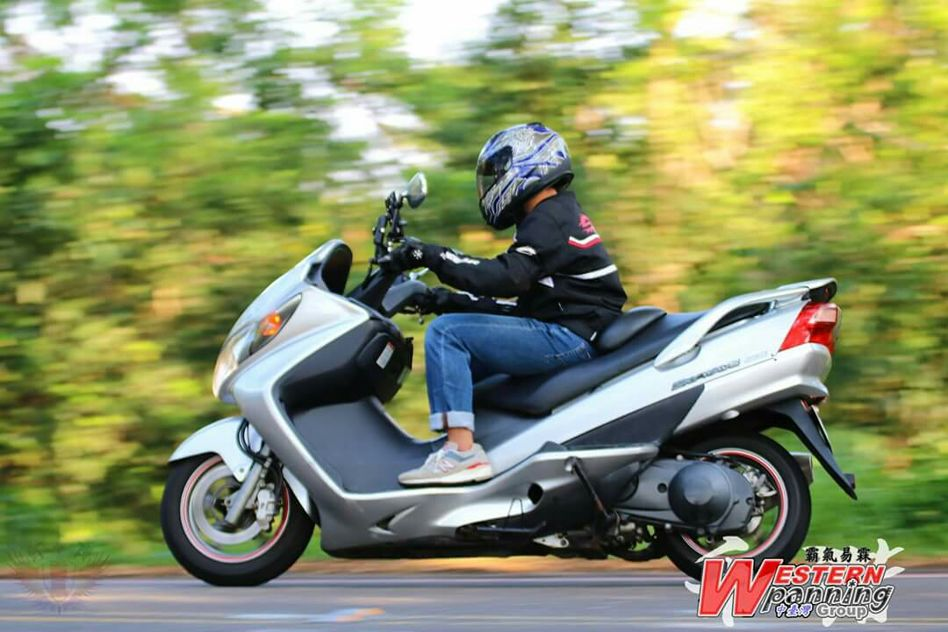helmet: (474, 124, 575, 214)
